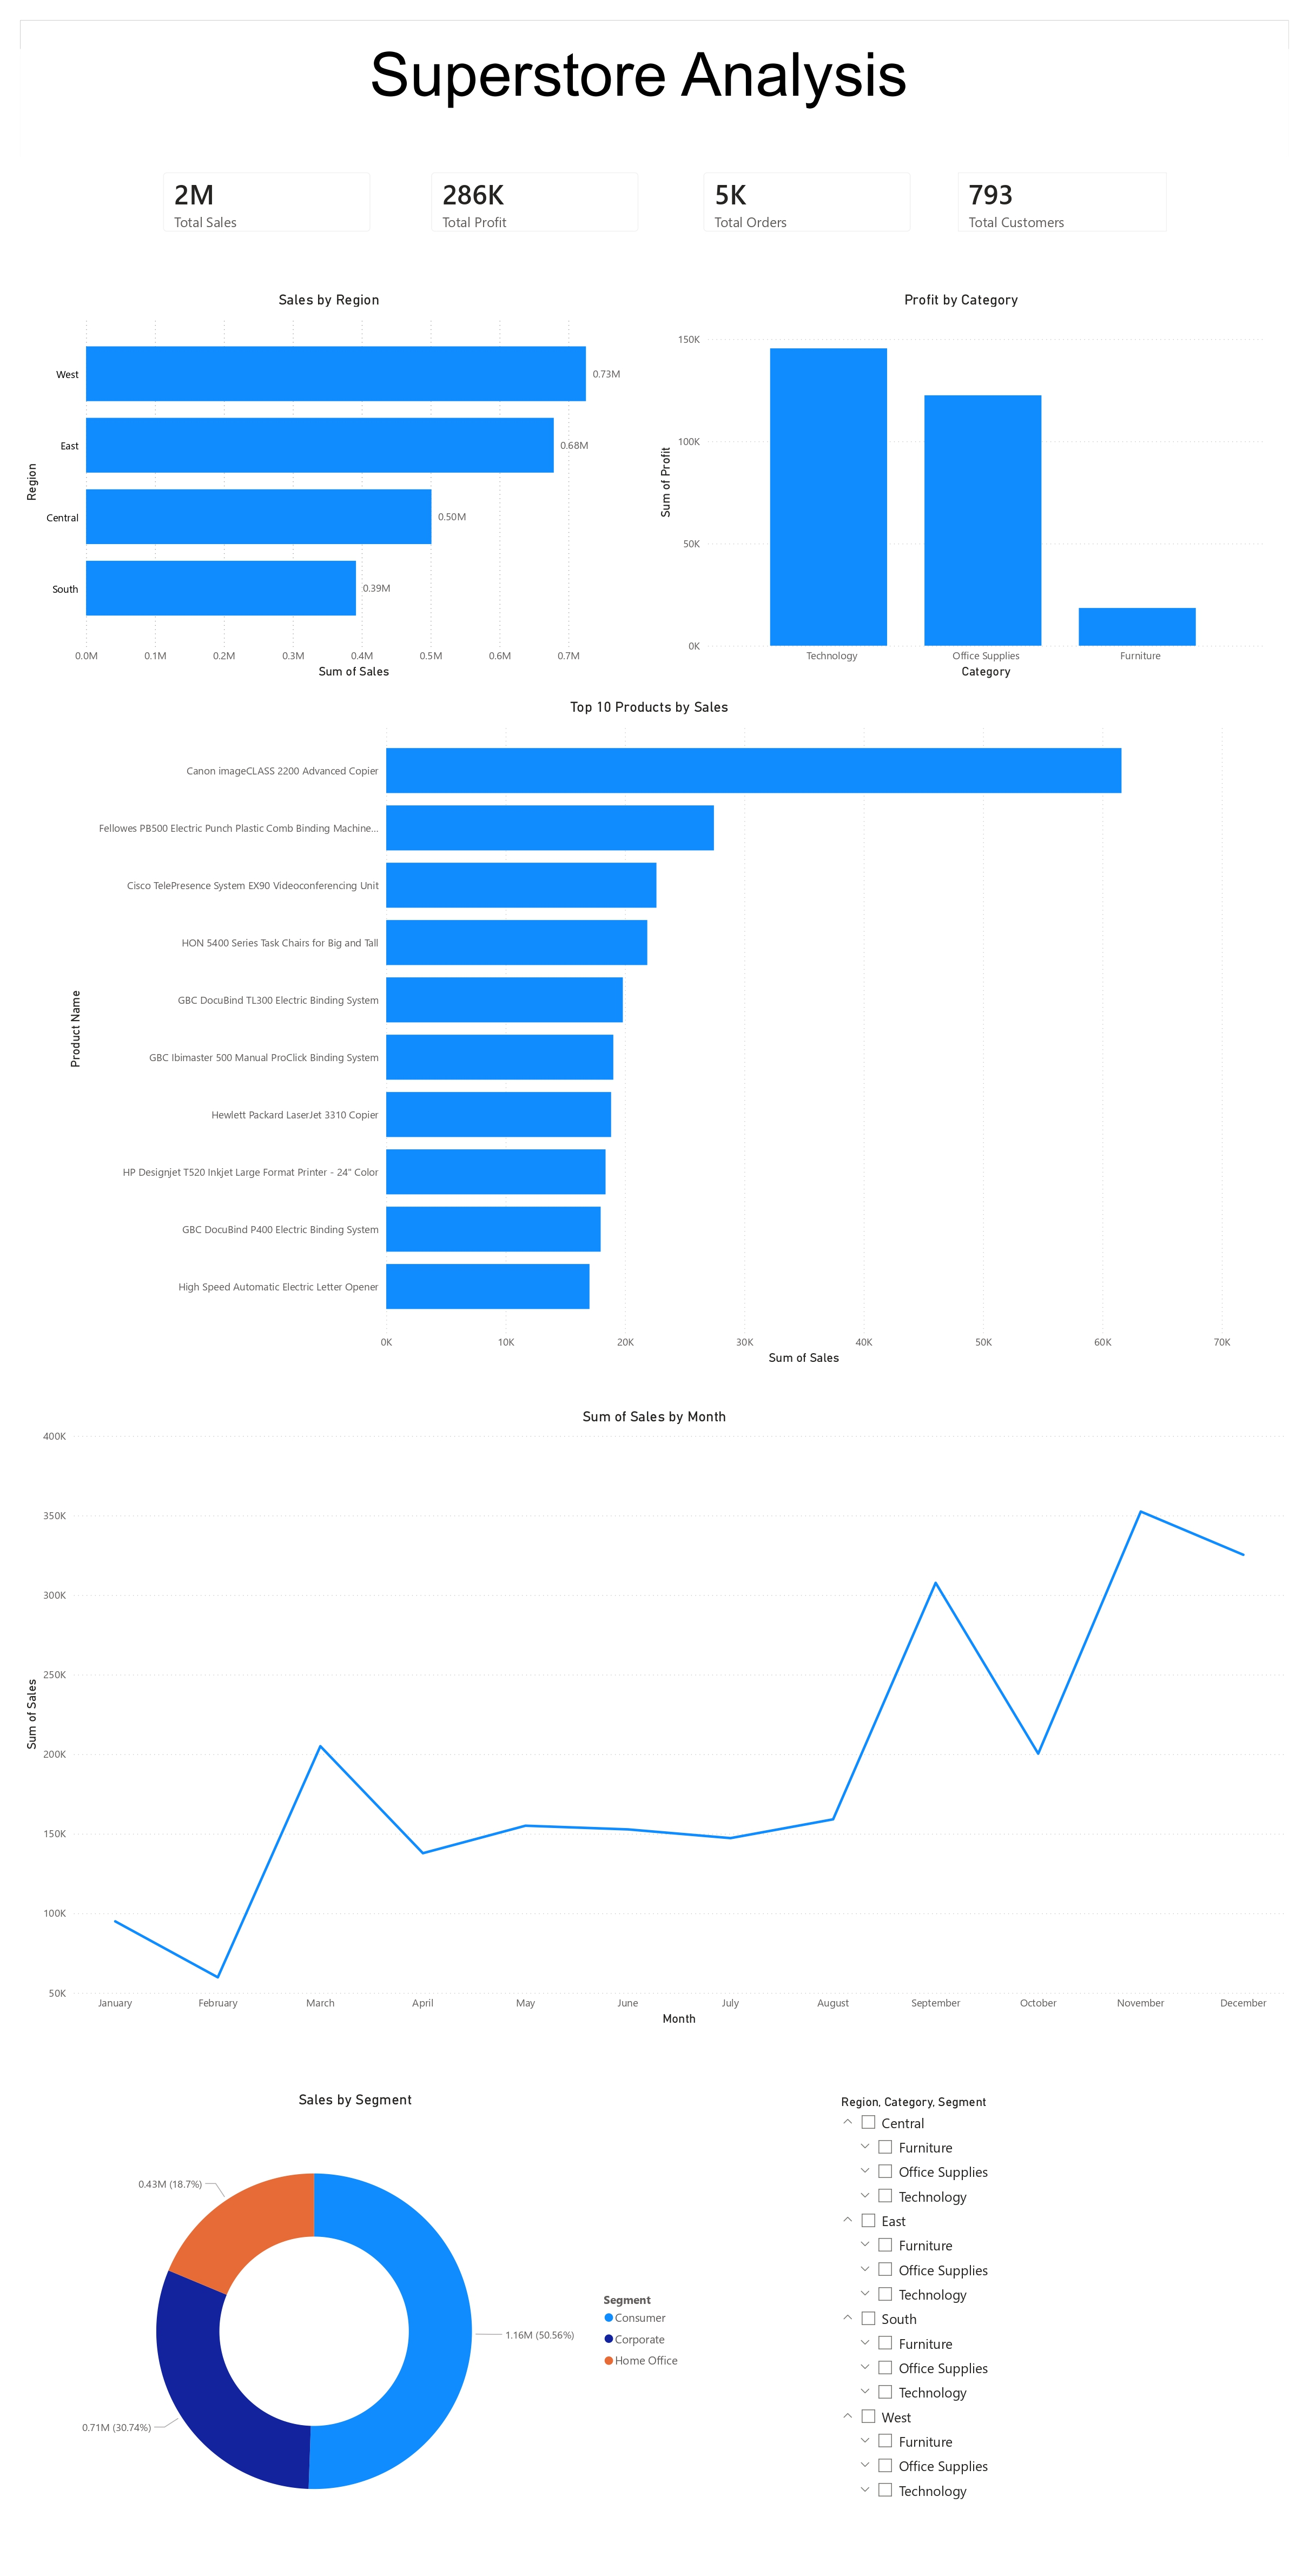

The page's visual inventory and layout, read from the dashboard file:
{"tool":"powerbi","page":{"name":"Page 1","canvas":[1500,3000],"ordinal":0},"visuals":[{"type":"cardVisual","title":"Total Sales","fields":{"Data":["superstore.Total Sales"]},"box":[152,163.2,279.9,104.3],"z":0},{"type":"cardVisual","title":"Total Orders","fields":{"Data":["superstore.Total Profit"]},"box":[469,163.2,279.9,104.3],"z":1},{"type":"cardVisual","title":"Total Profit","fields":{"Data":["superstore.Total Orders"]},"box":[791.5,163.2,279.9,104.3],"z":2},{"type":"cardVisual","title":"Total Sales","fields":{"Data":["superstore.Total Customers"]},"box":[1092,163.2,281.3,104.3],"z":3},{"type":"clusteredBarChart","title":"Sales by Region","fields":{"Y":["Sum(superstore.Sales)"],"Category":["superstore.Region"]},"box":[0,320,730,464],"z":4},{"type":"clusteredColumnChart","title":"Profit by Category","fields":{"Category":["superstore.Category"],"Y":["Sum(superstore.Profit)"]},"box":[750,320,726,464],"z":5},{"type":"clusteredBarChart","title":"Top 10 Products by Sales","fields":{"Y":["Sum(superstore.Sales)"],"Category":["superstore.Product Name"]},"box":[52,802,1384,794],"z":6},{"type":"lineChart","fields":{"Y":["Sum(superstore.Sales)"],"Category":["superstore.Order Date.Variation.Date Hierarchy.Month"]},"box":[0,1642,1500,736],"z":7},{"type":"donutChart","title":"Sales by Segment","fields":{"Category":["superstore.Segment"],"Y":["Sum(superstore.Sales)"]},"box":[0,2450,792,550],"z":8},{"type":"slicer","fields":{"Values":["superstore.Region","superstore.Category","superstore.Segment"]},"box":[958,2450,416,528],"z":9},{"type":"textbox","box":[522.9,65.7,308.6,72.9],"z":10}]}

Visuals, with their boxes on the page's 1500x3000 design canvas (x1, y1, x2, y2). These are canvas units, not pixel positions in the 1309x2576 screenshot, which may show the page scaled, cropped or inside an application window:
"Total Sales" cardVisual: 152:163:432:268
"Total Orders" cardVisual: 469:163:749:268
"Total Profit" cardVisual: 792:163:1071:268
"Total Sales" cardVisual: 1092:163:1373:268
"Sales by Region" clusteredBarChart: 0:320:730:784
"Profit by Category" clusteredColumnChart: 750:320:1476:784
"Top 10 Products by Sales" clusteredBarChart: 52:802:1436:1596
lineChart - Sum(superstore.Sales) x superstore.Order Date.Variation.Date Hierarchy.Month: 0:1642:1500:2378
"Sales by Segment" donutChart: 0:2450:792:3000
slicer - superstore.Region x superstore.Category: 958:2450:1374:2978
textbox: 523:66:832:139
